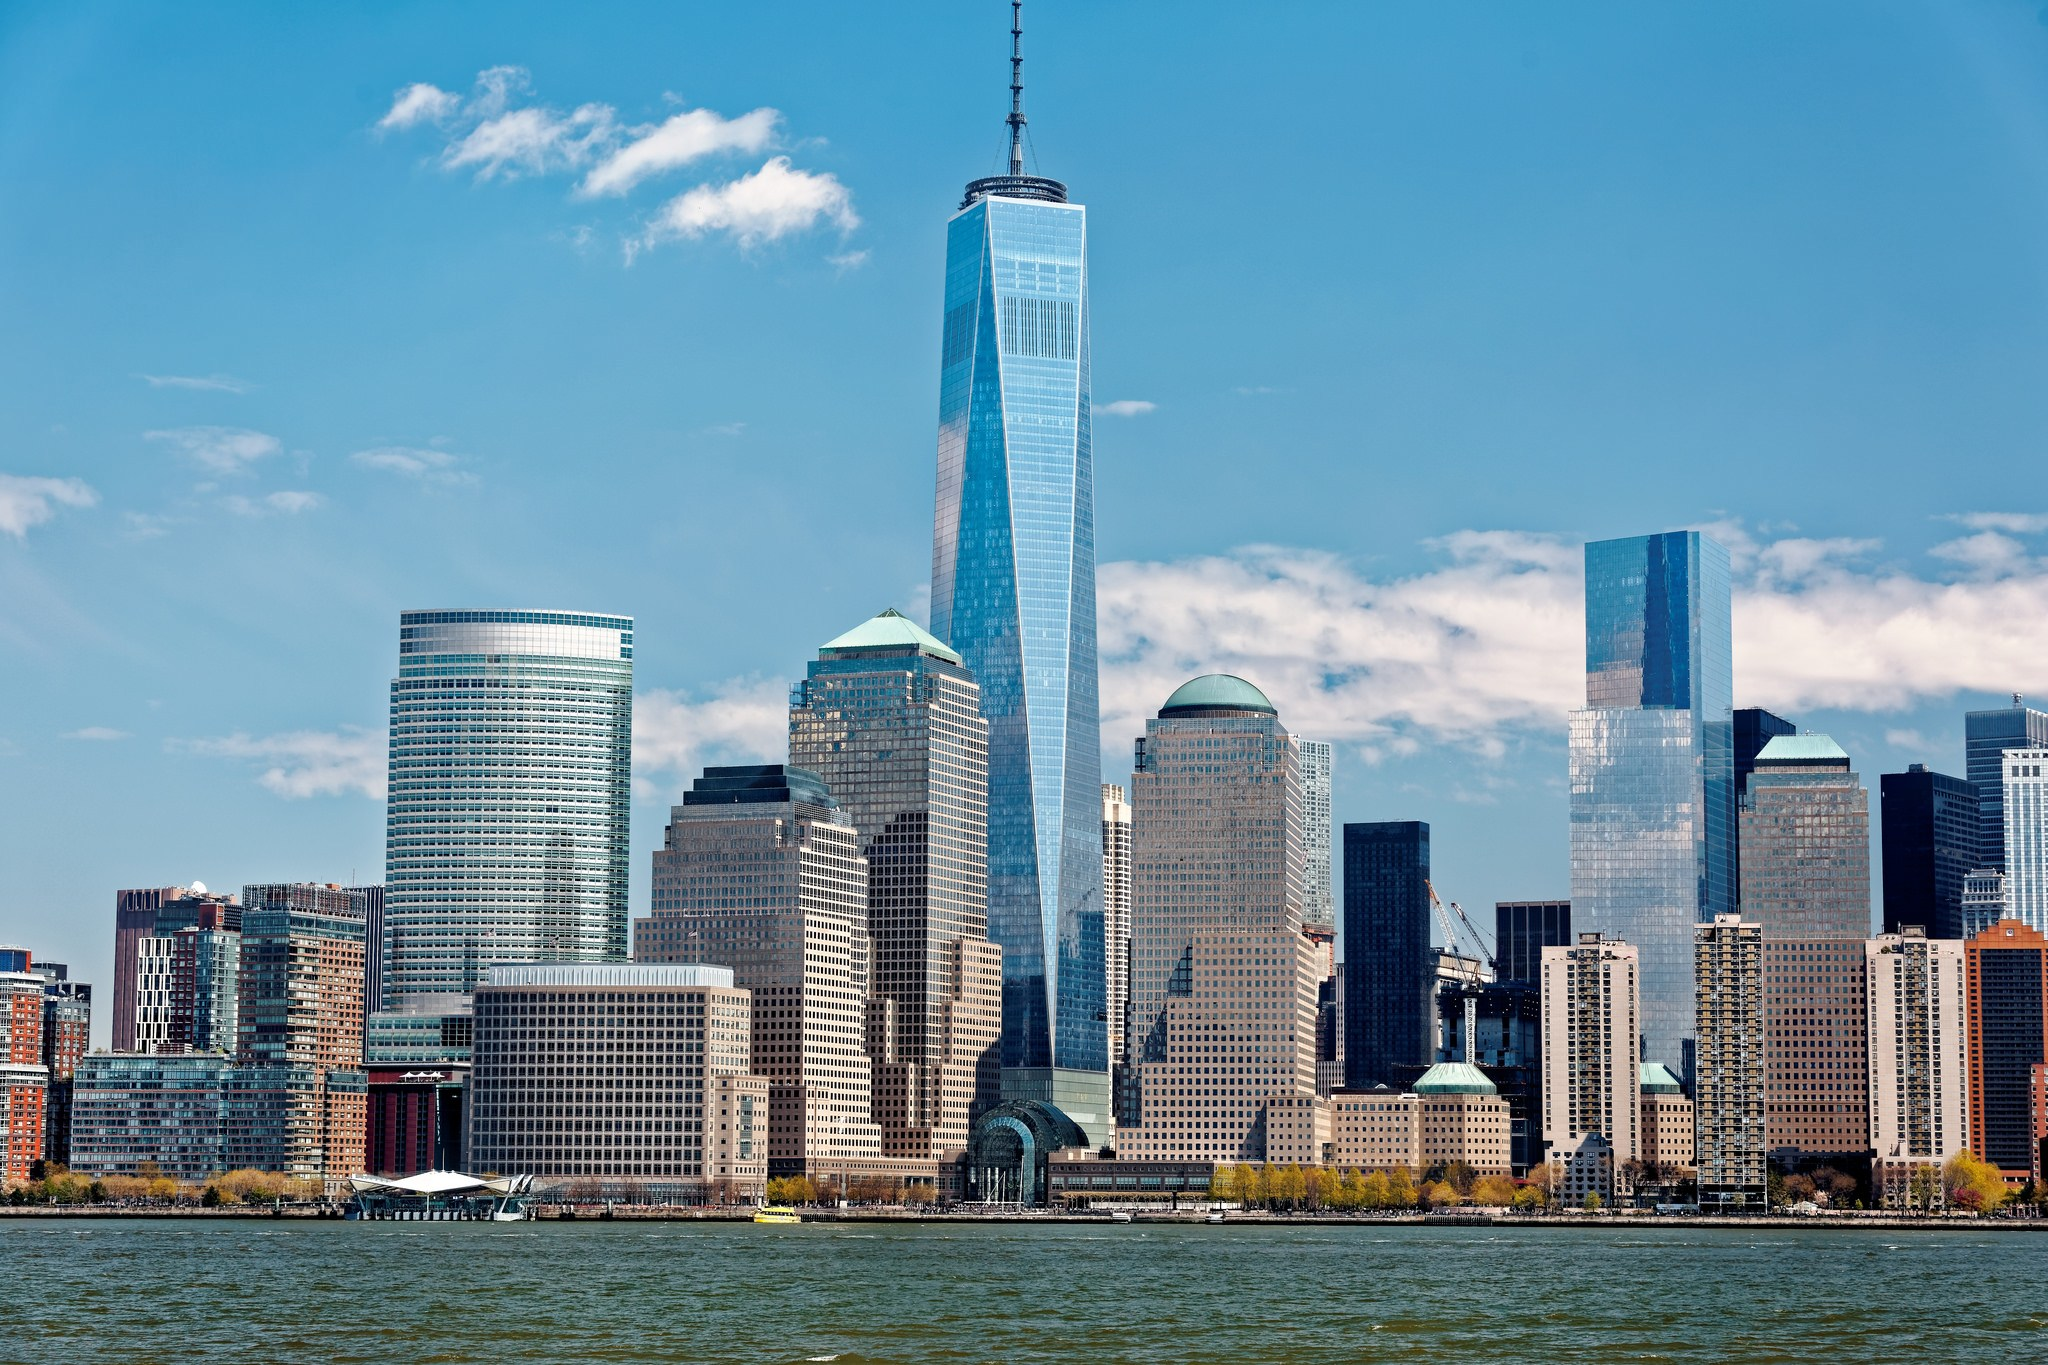wtc: (930, 14, 1107, 1097)
